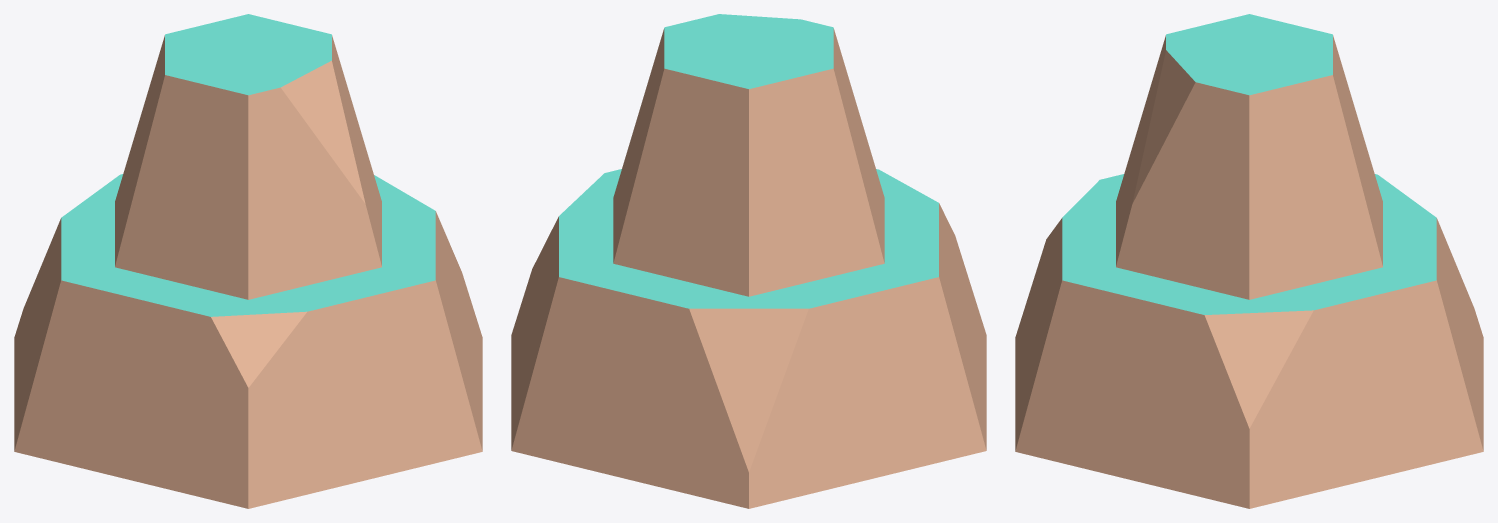
File: rock_smallF.glb
The picture shows the model from 3 angles, left to right: view 1: azimuth 30°, elevation 25°; view 2: azimuth 150°, elevation 25°; view 3: azimuth 270°, elevation 25°; orthographic projection.
Visible parts, largest first — view 1: rock_smallF; view 2: rock_smallF; view 3: rock_smallF.
Part boxes in pixels (box(x1,y1,x2,y2)): rock_smallF: box(14, 14, 482, 508); rock_smallF: box(511, 14, 986, 508); rock_smallF: box(1015, 14, 1483, 508).
Size of the model in its own units: 0.3536 by 0.2453 by 0.3062.
